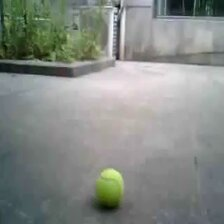tennis: (97, 170, 123, 205)
